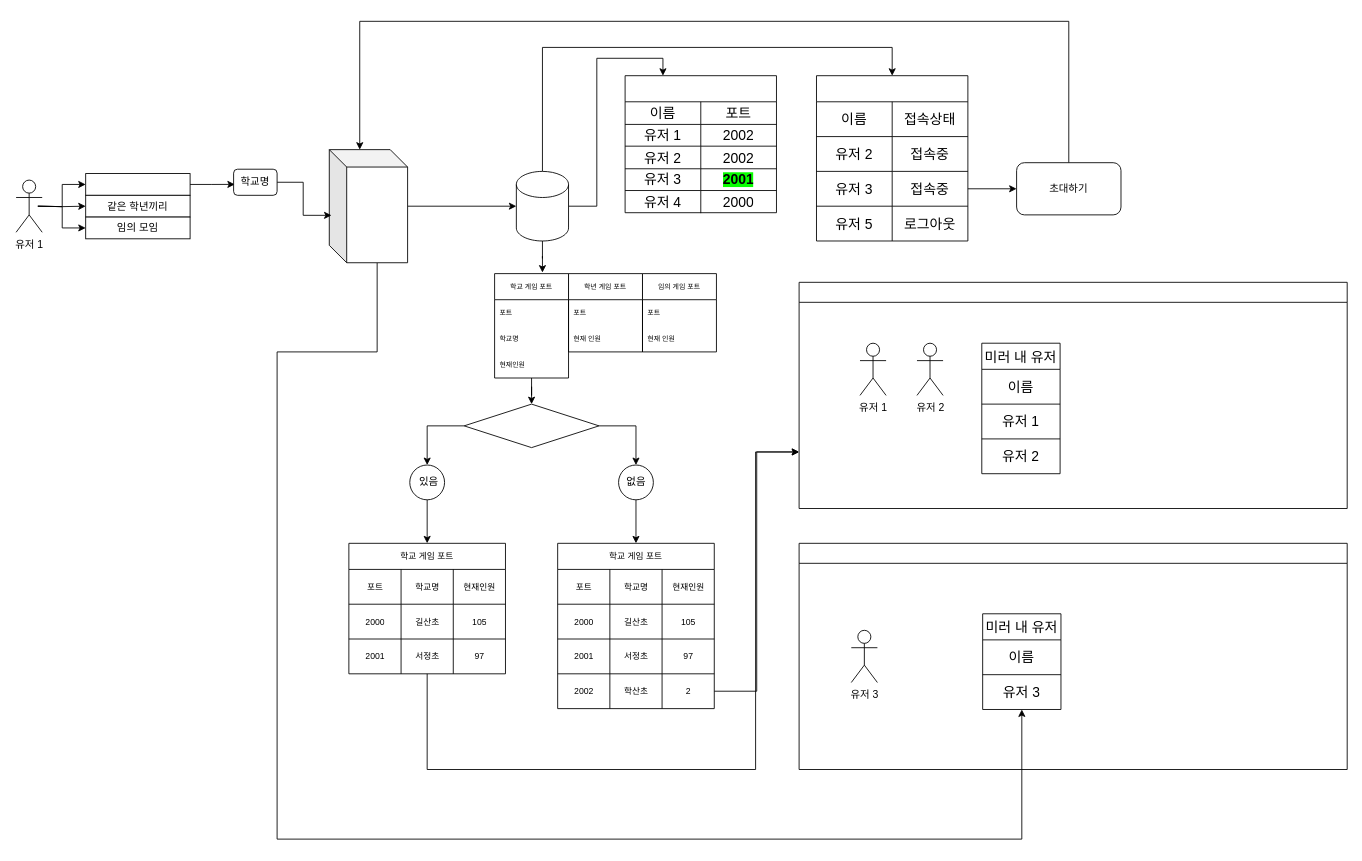
Some shapes in this 1362 by 861 pixel diagram are drawn without their labels. The box of each missing label's shape, as (x1, y1, x2, y2) in pixels:
DB: (515, 171, 569, 241)
SERVER: (328, 149, 408, 263)
같은 학교끼리: (85, 173, 190, 195)
본인 학교가 있는가?: (463, 403, 599, 448)
유저 1 친구 정보: (816, 75, 968, 241)
접속자 정보: (624, 75, 776, 213)
해당 포트 오픈 (ex. 2001): (798, 542, 1347, 770)
해당 포트 오픈 (ex. 2002): (798, 281, 1347, 509)
